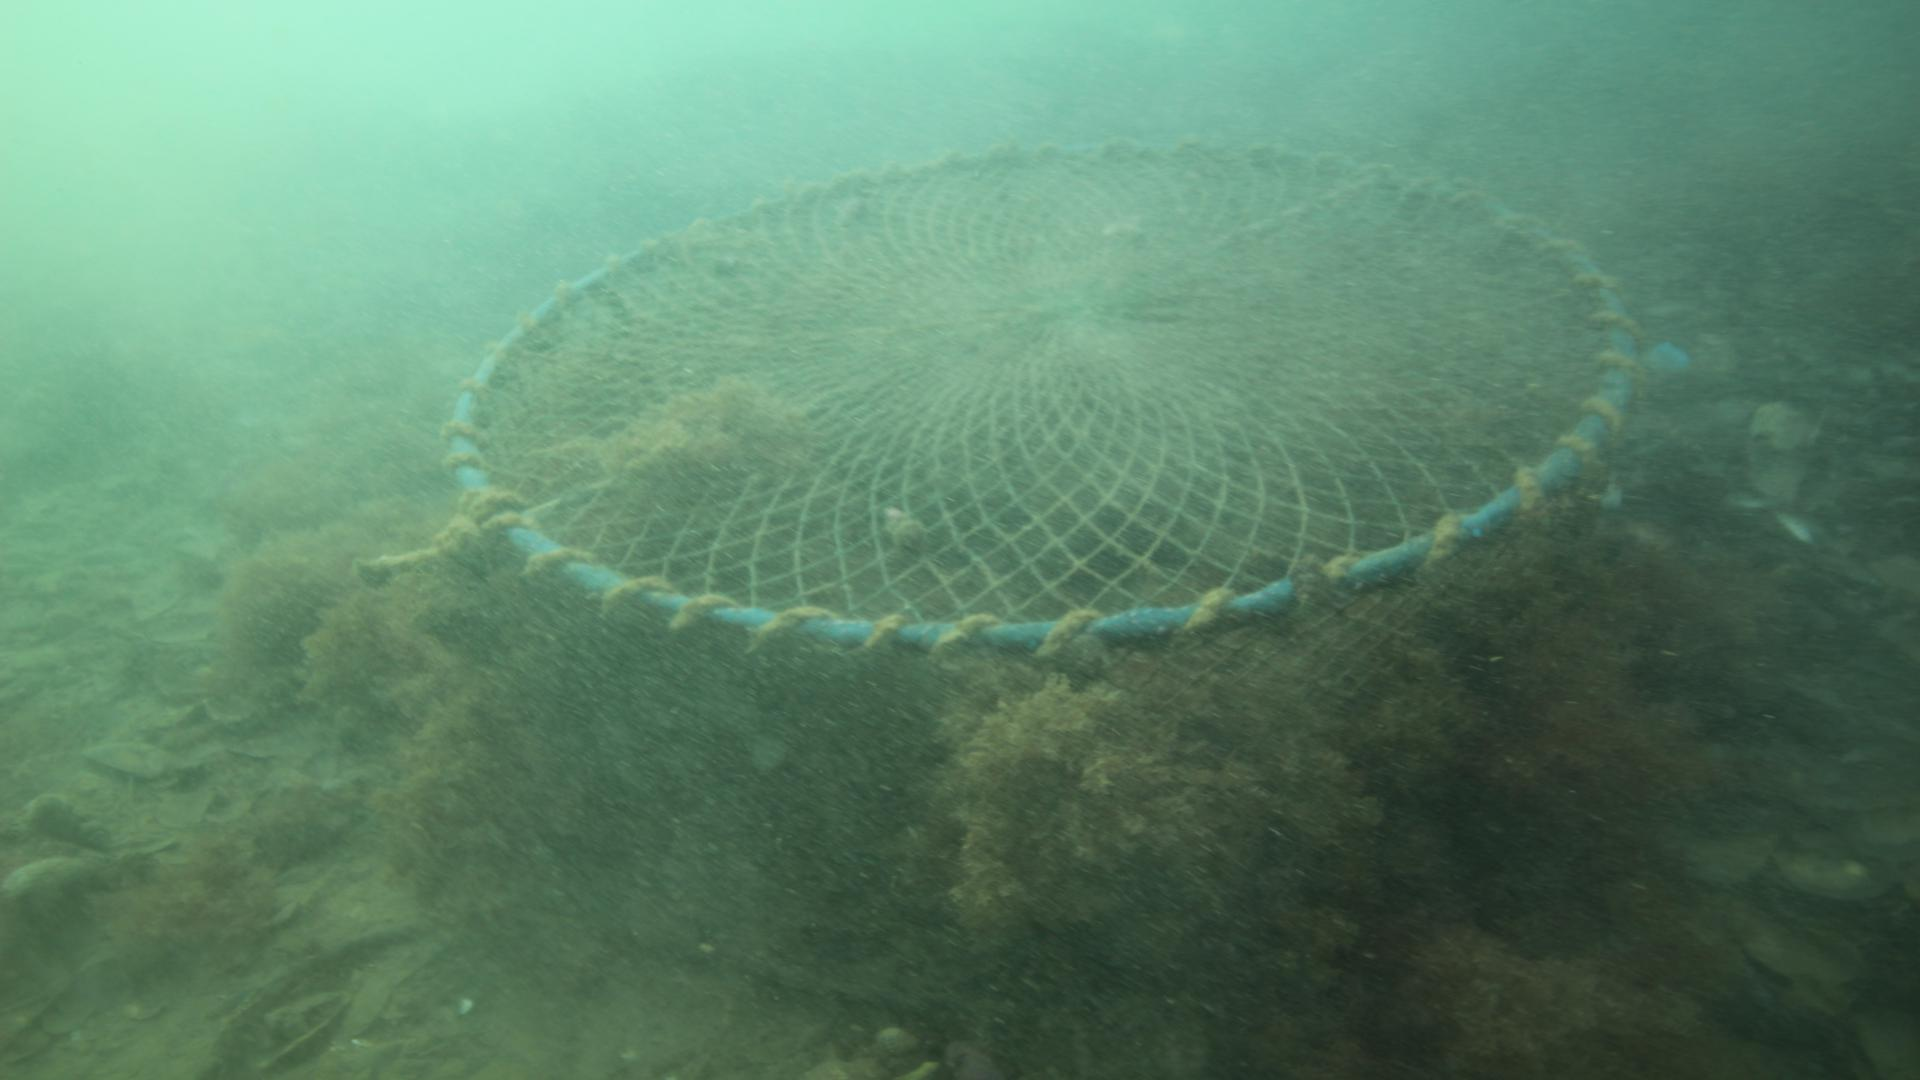circular fish trap: (436, 133, 1642, 798)
